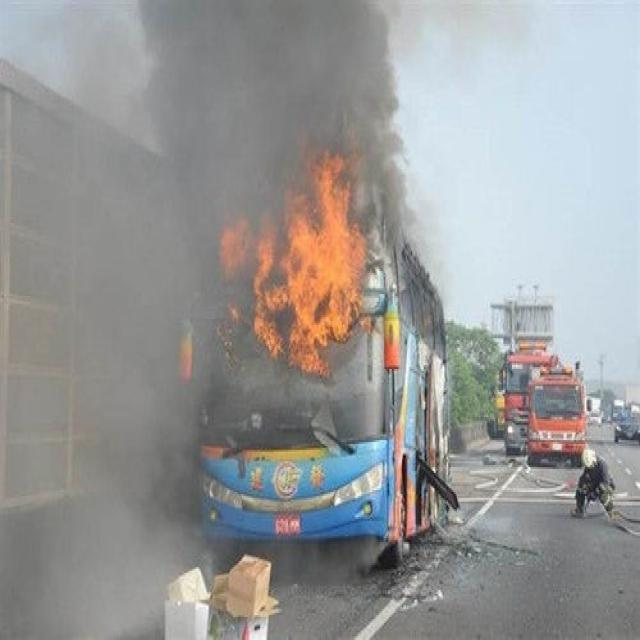Fire: (218, 148, 372, 375)
Smoke: (1, 2, 420, 640)
